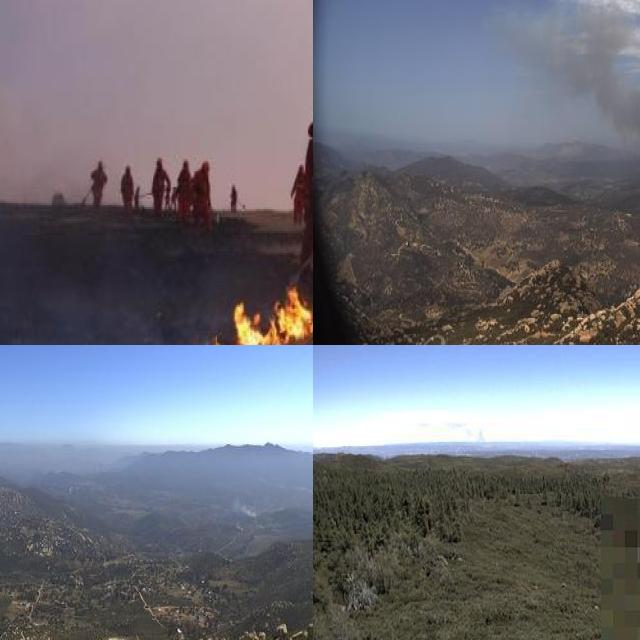fire: (49, 288, 313, 345)
smoke: (487, 0, 640, 169), (438, 414, 487, 447), (230, 496, 261, 523)
